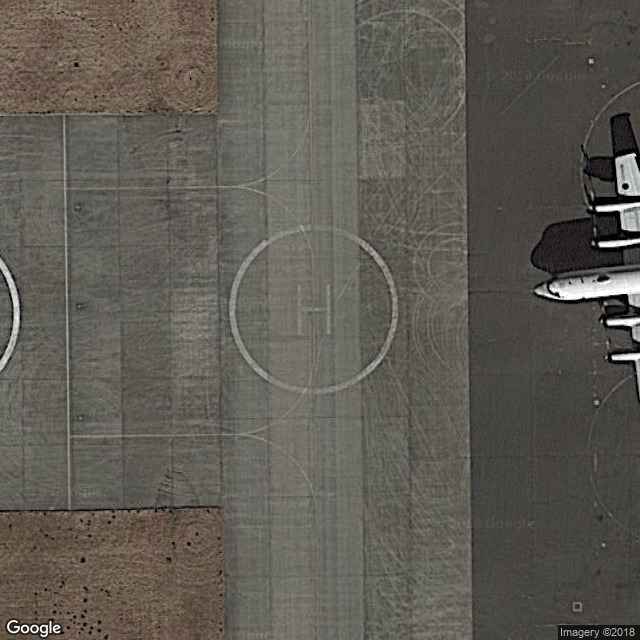heliport: (290, 276, 340, 339)
